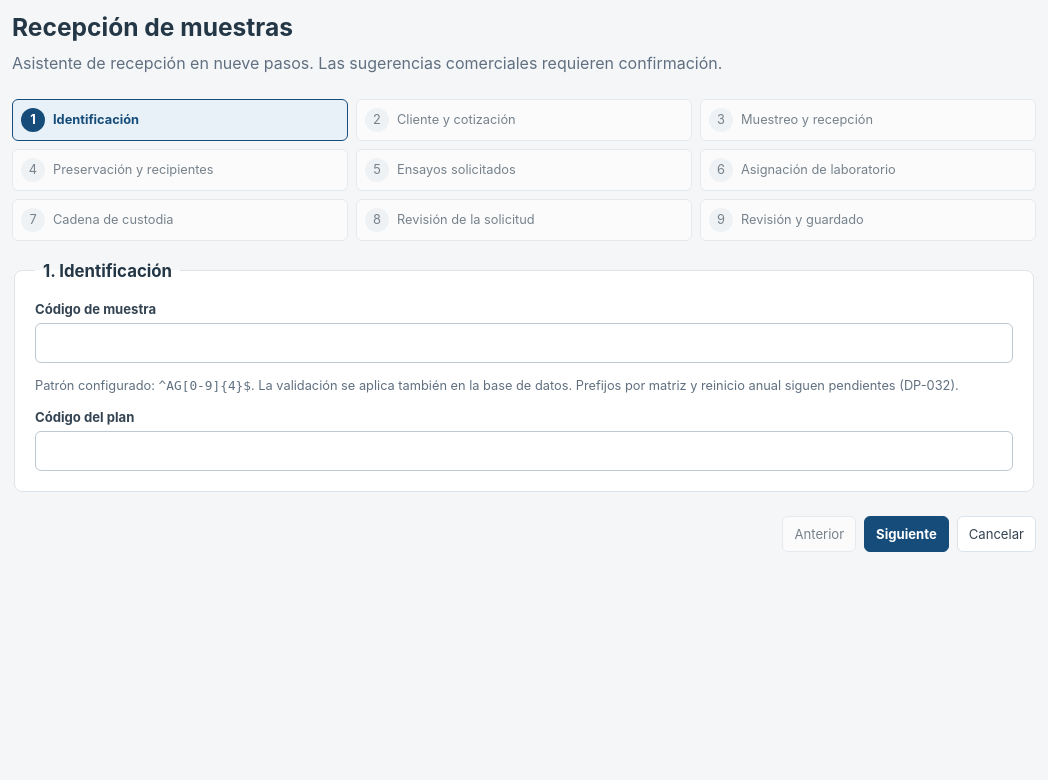
Test: recepción y búsqueda de muestras › detecta un código de muestra duplicado antes de guardar
This screenshot has width=1048, height=780.
Expected: the text "Asistente de recepción en nueve pasos. Las sugerencias comerciales requieren confirmación." is shown, [12,53,722,73]
Type "AG0346" into the field labelled "Código de muestra" at (524, 343), box [35,323,1013,363]
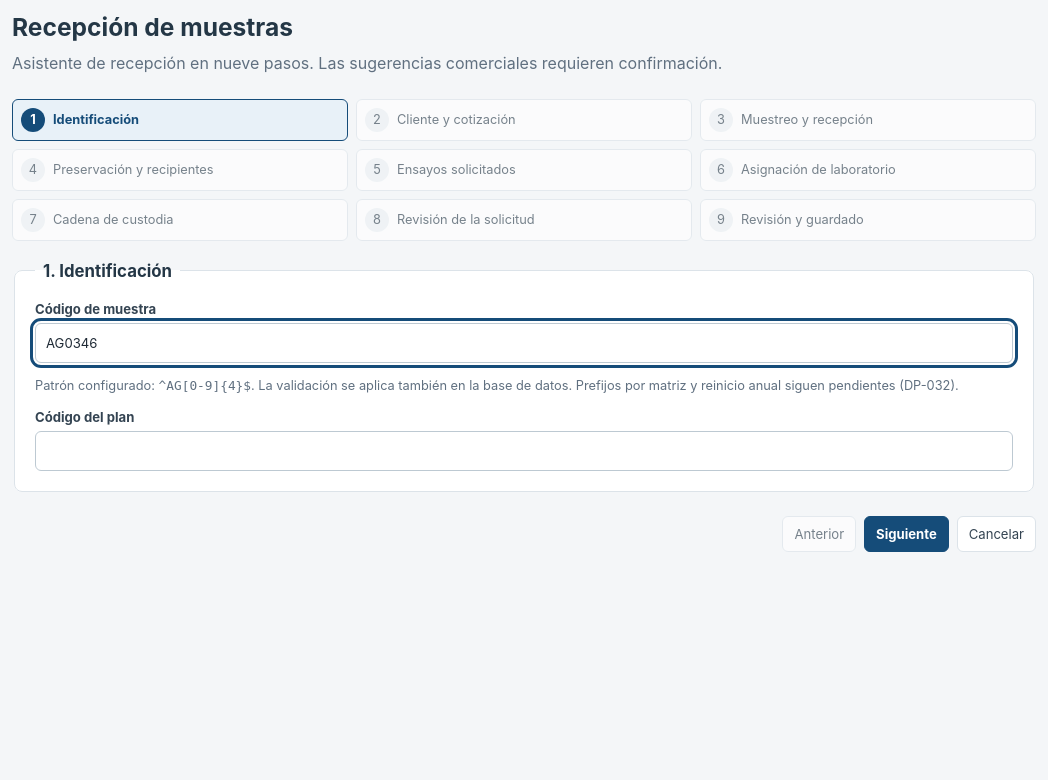
Click the button "Siguiente" at (906, 534), box [864,516,949,552]
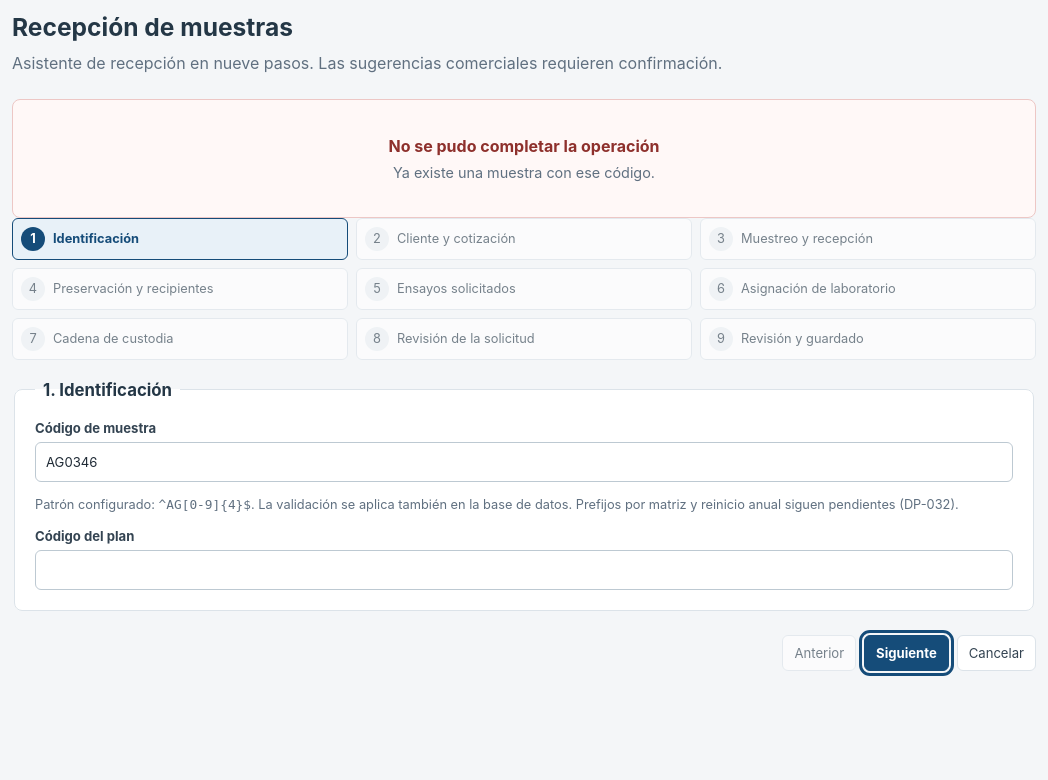
Result: the text "Ya existe una muestra con ese código." is shown at [393,164,655,181]
